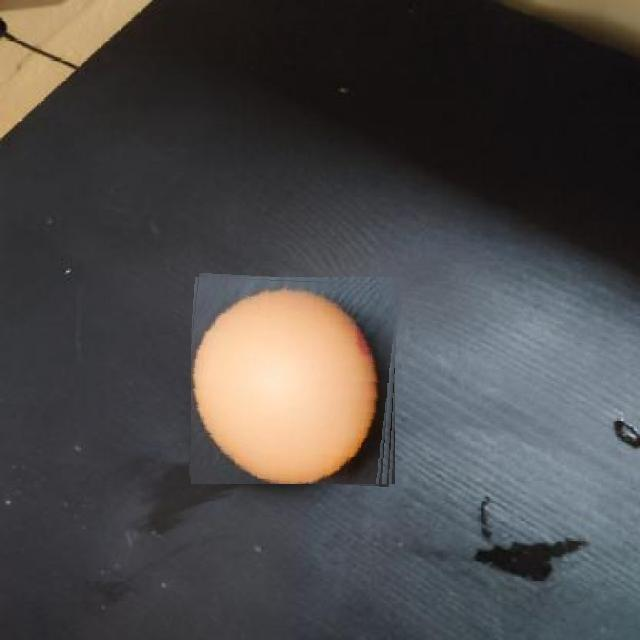biodegradable: (191, 276, 400, 484)
